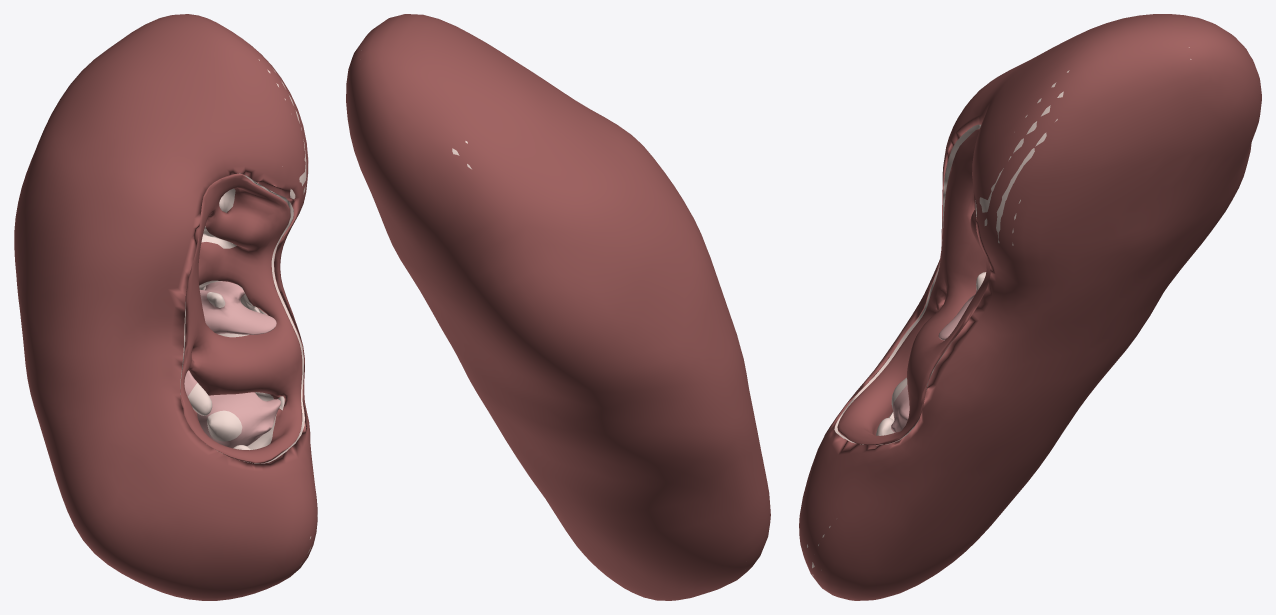
The model's file is vh_m_kidney_r-80.glb.
3 renders of one model, left to right at view 1: azimuth 30°, elevation 25°; view 2: azimuth 150°, elevation 25°; view 3: azimuth 270°, elevation 25°, orthographic. The views are drawn at different scales.
Parts seen in each view (by area): view 1: VH_M_kidney_capsule_R, VH_M_hilum_of_kidney_R, VH_M_renal_pyramid_f, VH_M_renal_pyramid_h, VH_M_outer_cortex_of_kidney_R, VH_M_renal_column_R, VH_M_renal_papilla_R_h, VH_M_renal_papilla_R_g; view 2: VH_M_kidney_capsule_R; view 3: VH_M_kidney_capsule_R, VH_M_hilum_of_kidney_R, VH_M_outer_cortex_of_kidney_R, VH_M_renal_pyramid_h.
Boxes of the visible parts, bbox=[...] form: VH_M_kidney_capsule_R: bbox=[14, 14, 317, 600]; VH_M_hilum_of_kidney_R: bbox=[180, 173, 302, 463]; VH_M_renal_pyramid_f: bbox=[199, 281, 276, 334]; VH_M_renal_pyramid_h: bbox=[197, 392, 280, 448]; VH_M_outer_cortex_of_kidney_R: bbox=[89, 59, 317, 564]; VH_M_renal_column_R: bbox=[199, 188, 276, 449]; VH_M_renal_papilla_R_h: bbox=[207, 410, 242, 441]; VH_M_renal_papilla_R_g: bbox=[188, 382, 212, 415]; VH_M_kidney_capsule_R: bbox=[346, 14, 770, 600]; VH_M_kidney_capsule_R: bbox=[799, 14, 1261, 600]; VH_M_hilum_of_kidney_R: bbox=[837, 128, 990, 445]; VH_M_outer_cortex_of_kidney_R: bbox=[807, 47, 1191, 575]; VH_M_renal_pyramid_h: bbox=[891, 384, 909, 432].
Bounding box in the file's own units: 0.0655 × 0.1125 × 0.0764.
